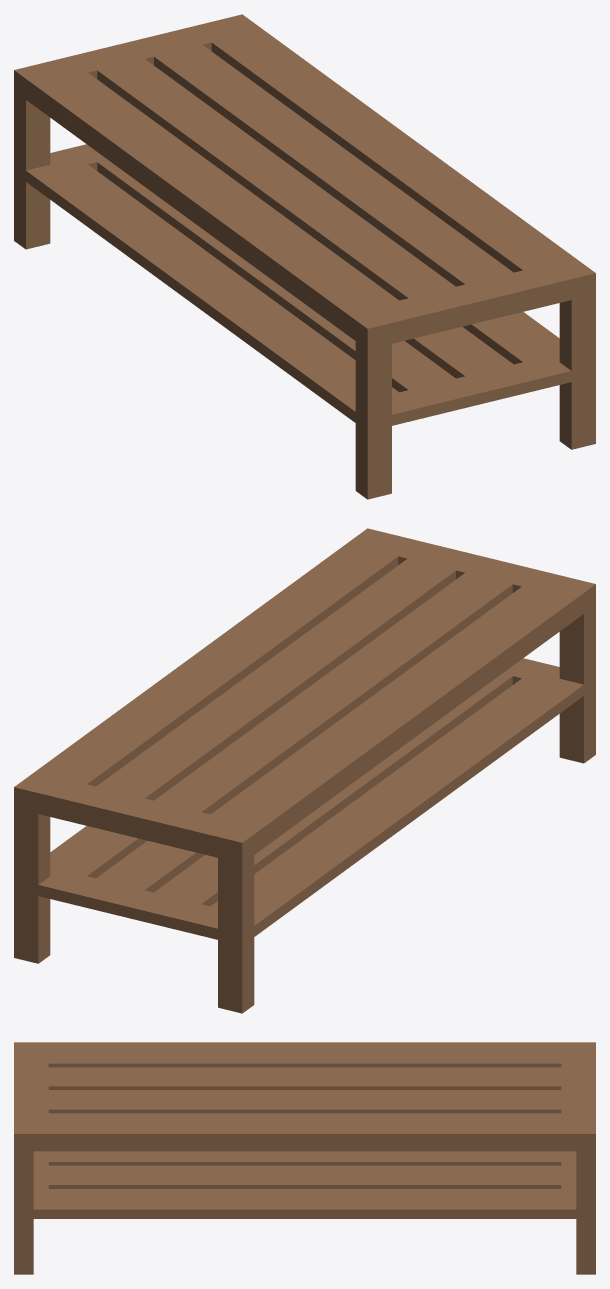
Rendered from ShoeShelf_1.fbx.
3 views of the same model, one above another, from view 1: azimuth 30°, elevation 25°; view 2: azimuth 150°, elevation 25°; view 3: azimuth 270°, elevation 25° (orthographic). The views are drawn at different scales.
Parts seen in each view (by area): view 1: pCube11; view 2: pCube11; view 3: pCube11.
Boxes of the visible parts, x1,y1,x2,y2 form: pCube11: (14,14,595,499); pCube11: (14,528,595,1013); pCube11: (14,1042,595,1274).
Bounding box in the file's own units: 0.007 × 0.005 × 0.0188.
